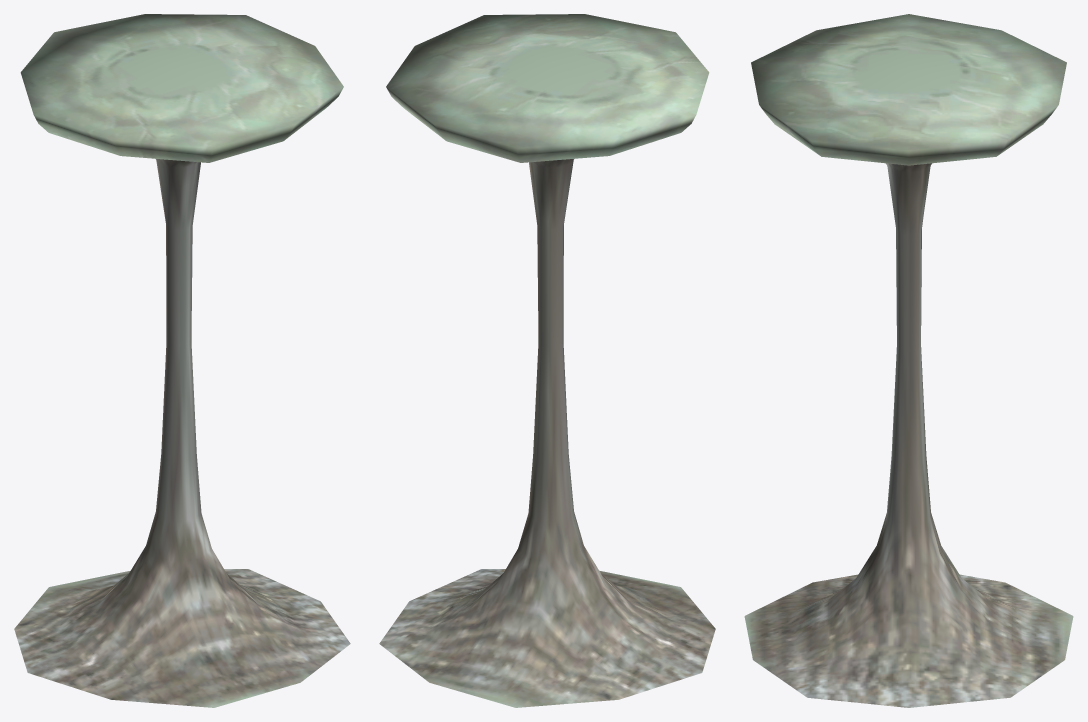
File: INST_TROLLHOLE_SHELFSTONE4M.fbx
3 renders of one model, left to right at view 1: azimuth 30°, elevation 25°; view 2: azimuth 150°, elevation 25°; view 3: azimuth 270°, elevation 25°, orthographic.
Visible parts, largest first — view 1: INST_TROLLHOLE_SHELFSTONE4M; view 2: INST_TROLLHOLE_SHELFSTONE4M; view 3: INST_TROLLHOLE_SHELFSTONE4M.
Part boxes in pixels (x1=…): INST_TROLLHOLE_SHELFSTONE4M: x1=14, y1=14, x2=350, y2=707; INST_TROLLHOLE_SHELFSTONE4M: x1=379, y1=14, x2=715, y2=707; INST_TROLLHOLE_SHELFSTONE4M: x1=744, y1=14, x2=1073, y2=707.
Size of the model in its own units: 22112 by 41168 by 21582.
2 materials, 2 textured.
